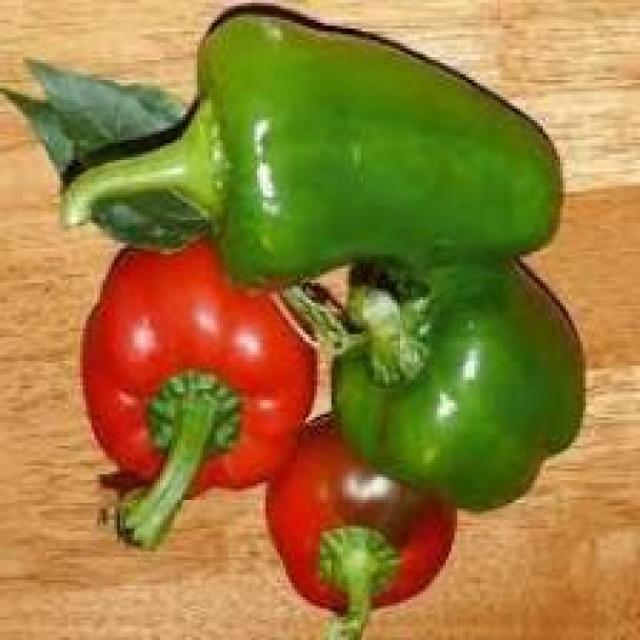Pepper: (6, 3, 586, 511), (80, 240, 323, 554), (266, 423, 457, 640)
